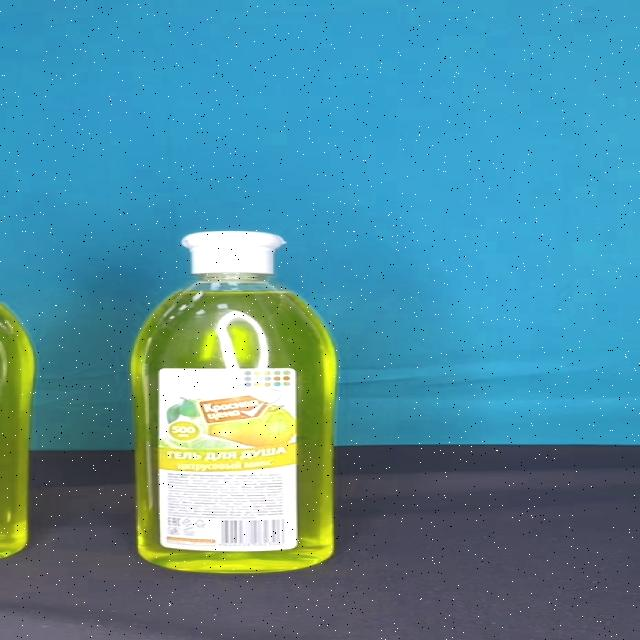Bottle: (129, 230, 339, 573)
Cap: (181, 232, 285, 274)
